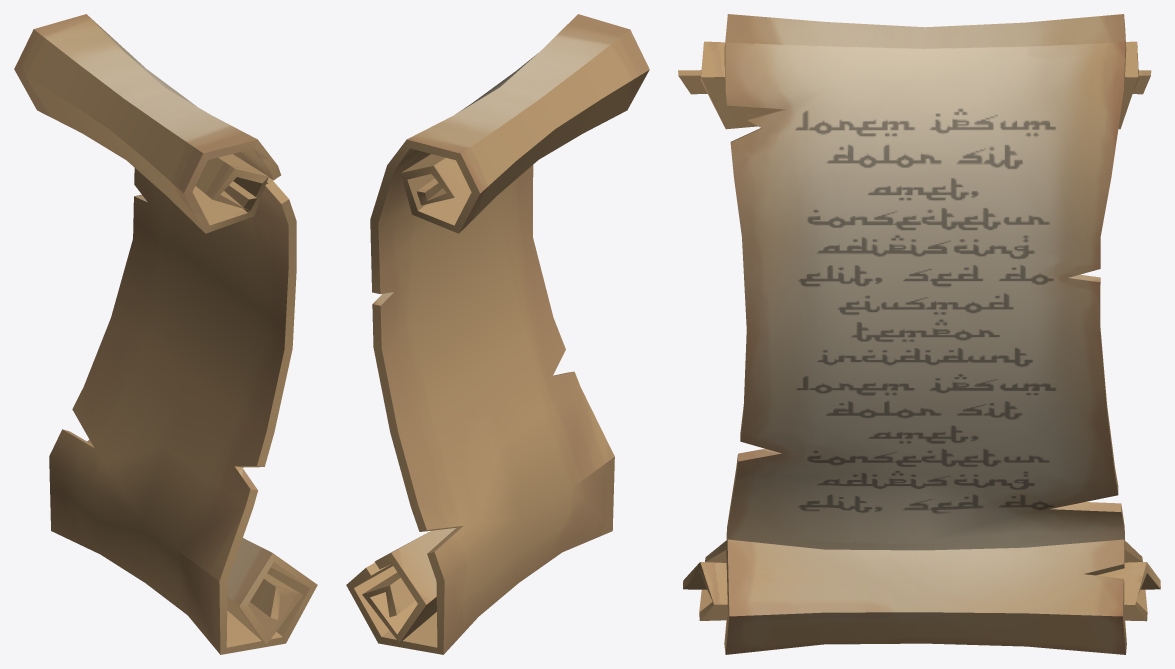
File: hechizo_mesh.fbx
3 views of the same model, side by side, from view 1: azimuth 30°, elevation 25°; view 2: azimuth 150°, elevation 25°; view 3: azimuth 270°, elevation 25° (orthographic). The views are drawn at different scales.
Visible parts, largest first — view 1: LowPoly; view 2: LowPoly; view 3: LowPoly.
Part boxes in pixels (x1,y1,x2,y2): LowPoly: (14, 14, 317, 654); LowPoly: (346, 14, 649, 654); LowPoly: (678, 14, 1160, 654).
Bounding box in the file's own units: 3259 × 11818 × 8670.
